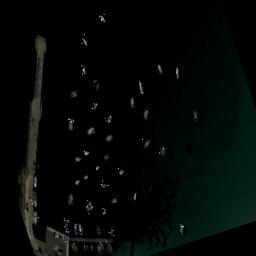boat: (62, 217, 74, 236), (92, 77, 104, 95), (30, 211, 42, 227), (65, 116, 77, 132), (84, 124, 97, 137), (29, 192, 41, 206), (141, 137, 153, 150), (127, 95, 138, 109), (104, 240, 114, 255), (142, 107, 152, 122), (70, 240, 79, 256), (84, 200, 94, 214), (104, 114, 115, 126), (65, 193, 75, 206), (171, 67, 181, 80), (190, 109, 200, 122), (76, 221, 84, 236), (72, 222, 80, 237), (30, 174, 40, 186), (90, 101, 100, 113), (94, 224, 102, 238), (156, 62, 164, 76), (98, 179, 109, 189), (67, 242, 76, 254), (96, 242, 104, 255), (80, 34, 88, 47), (72, 178, 82, 188), (104, 132, 114, 142), (102, 152, 112, 162), (98, 14, 108, 24), (116, 166, 127, 175), (108, 224, 116, 236), (158, 144, 166, 156), (80, 64, 88, 76), (137, 82, 145, 94), (82, 240, 88, 254), (178, 224, 186, 234), (131, 191, 139, 201), (82, 148, 92, 156), (70, 90, 80, 98), (81, 224, 88, 235), (96, 242, 102, 254), (92, 164, 100, 172), (100, 206, 106, 216), (88, 242, 94, 252), (72, 156, 82, 162), (80, 173, 88, 180), (147, 184, 154, 192), (110, 197, 117, 204), (80, 243, 86, 251), (100, 244, 106, 252)
